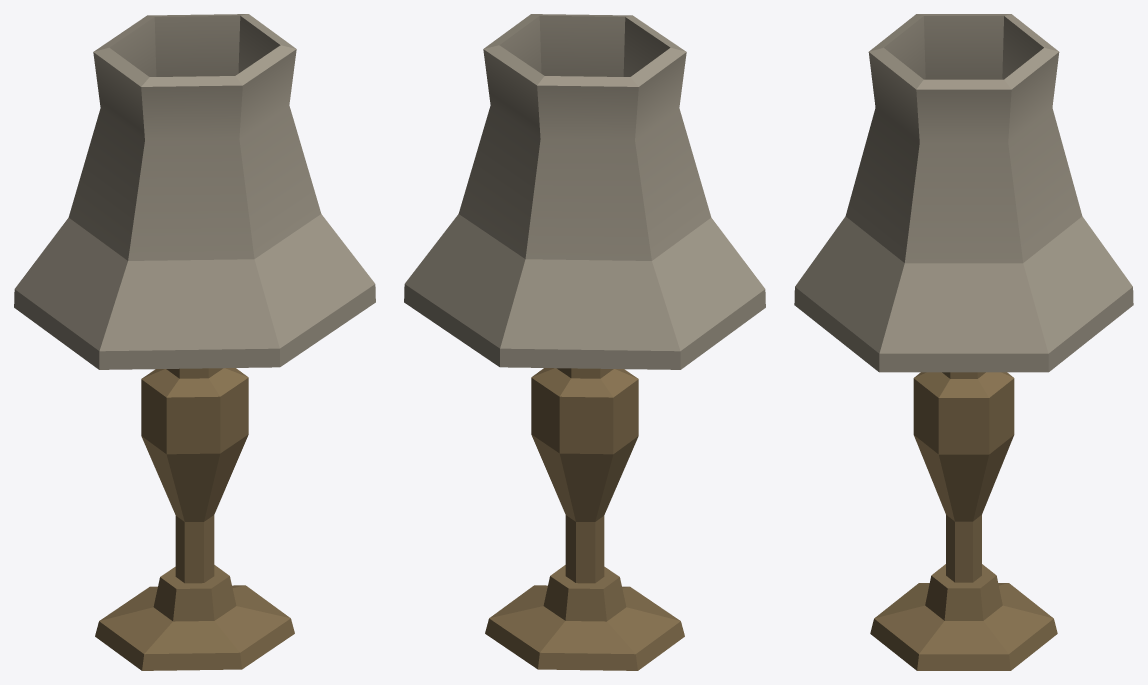
The model's file is SM_Prop_Lamp_01.fbx.
3 renders of one model, left to right at view 1: azimuth 30°, elevation 25°; view 2: azimuth 150°, elevation 25°; view 3: azimuth 270°, elevation 25°, orthographic.
Parts seen in each view (by area): view 1: SM_Prop_Lamp_01; view 2: SM_Prop_Lamp_01; view 3: SM_Prop_Lamp_01.
Part boxes in pixels (x1=…): SM_Prop_Lamp_01: x1=14, y1=14, x2=375, y2=670; SM_Prop_Lamp_01: x1=404, y1=14, x2=765, y2=670; SM_Prop_Lamp_01: x1=794, y1=14, x2=1133, y2=670.
Size of the model in its own units: 38.43 by 78.12 by 40.97.
